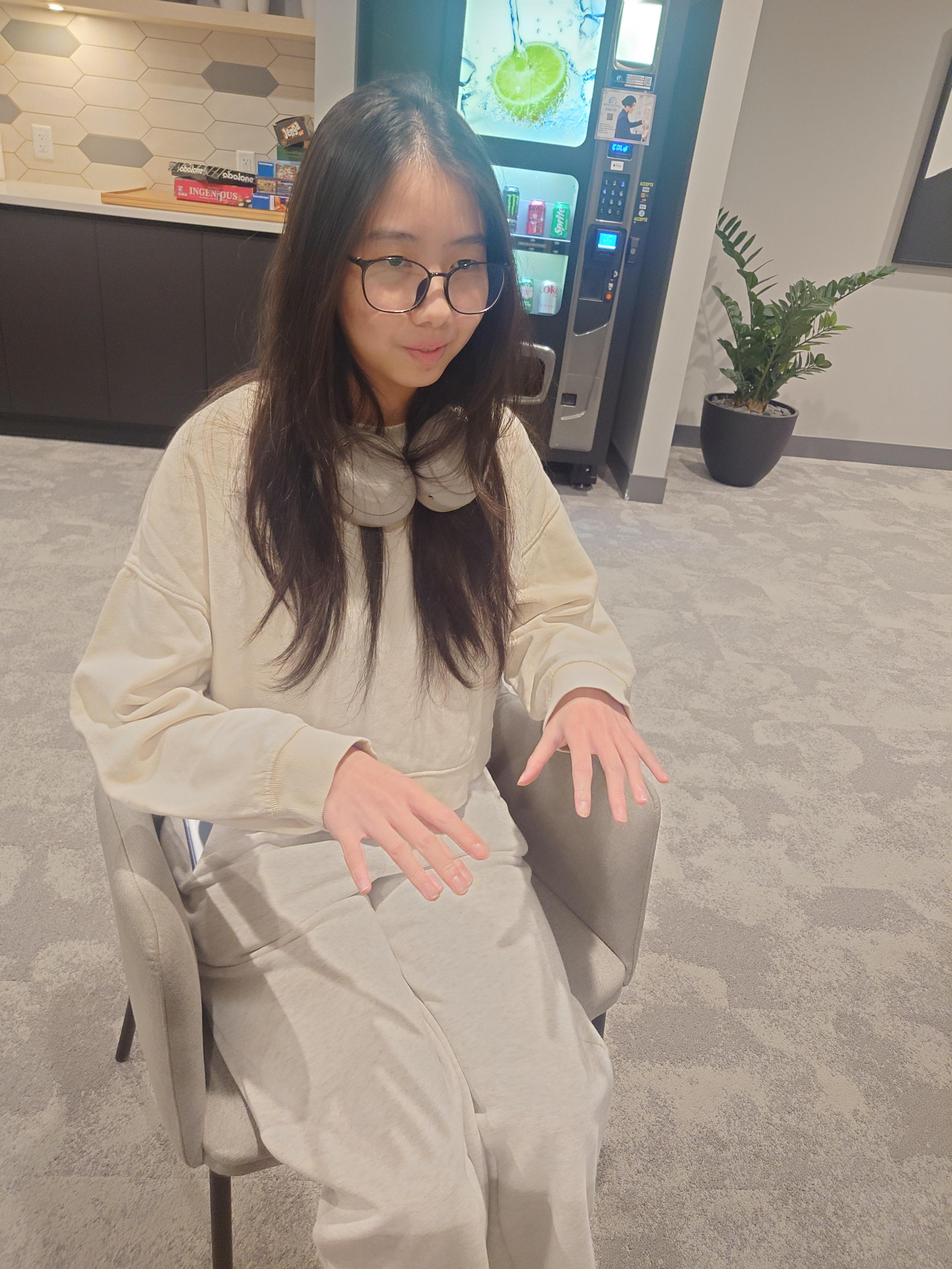GoodPosture: (68, 76, 670, 1269)
